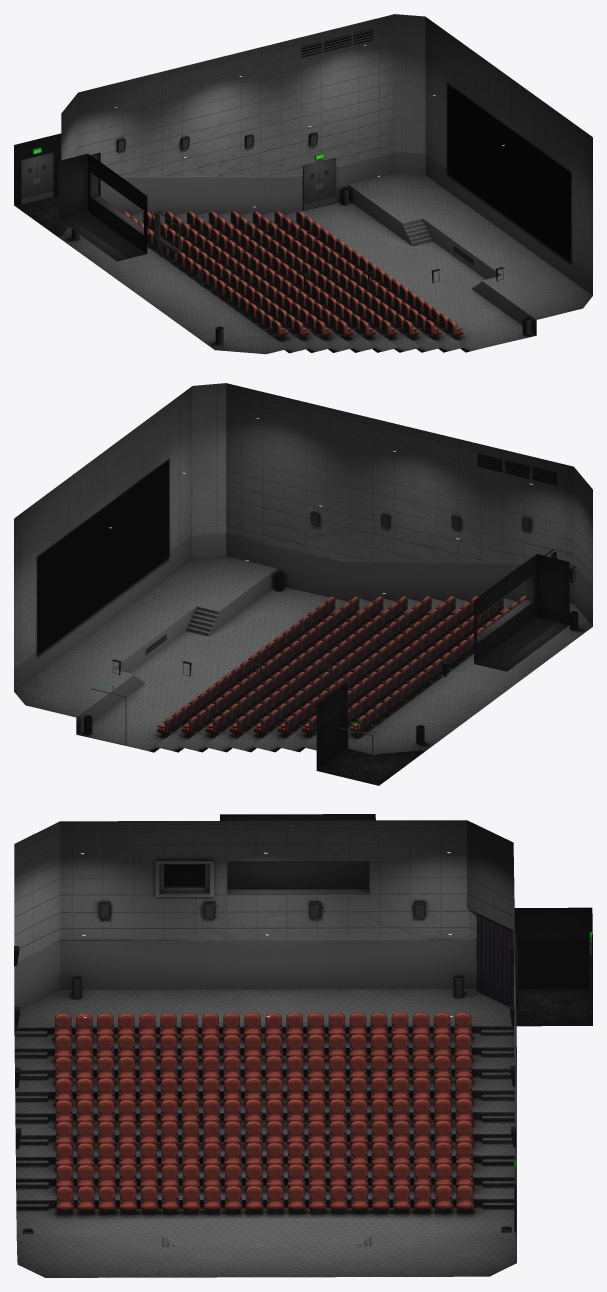
The picture shows the model from 3 angles, top to bottom: view 1: azimuth 30°, elevation 25°; view 2: azimuth 150°, elevation 25°; view 3: azimuth 270°, elevation 25°; orthographic projection. The views are drawn at different scales.
Parts seen in each view (by area): view 1: walls, seats, doors, speakers_2, trash; view 2: walls, seats, speakers_2, trash; view 3: walls, seats, curtain, speakers, speakers_2, trash.
Part boxes in pixels (x1,y1,x2,y2): walls: [14, 14, 592, 354]; seats: [122, 211, 463, 340]; doors: [20, 147, 335, 210]; speakers_2: [117, 132, 504, 287]; trash: [71, 187, 530, 344]; walls: [14, 383, 592, 785]; seats: [157, 596, 525, 737]; speakers_2: [112, 511, 531, 680]; trash: [83, 571, 578, 744]; walls: [14, 814, 592, 1277]; seats: [54, 1012, 473, 1215]; curtain: [476, 913, 518, 1024]; speakers: [99, 901, 425, 919]; speakers_2: [14, 944, 515, 1148]; trash: [22, 974, 511, 1233].
Size of the model in its own units: 23.19 by 9.46 by 21.07.
3 materials, 3 textured.
